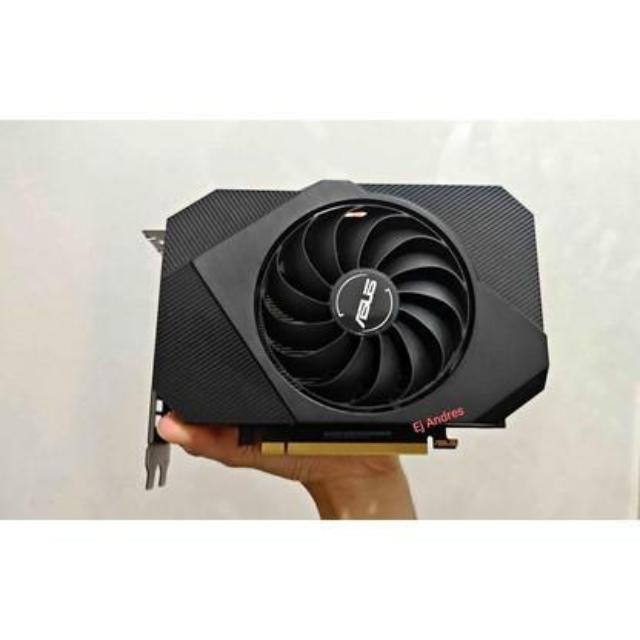GPU: (157, 167, 557, 464)
